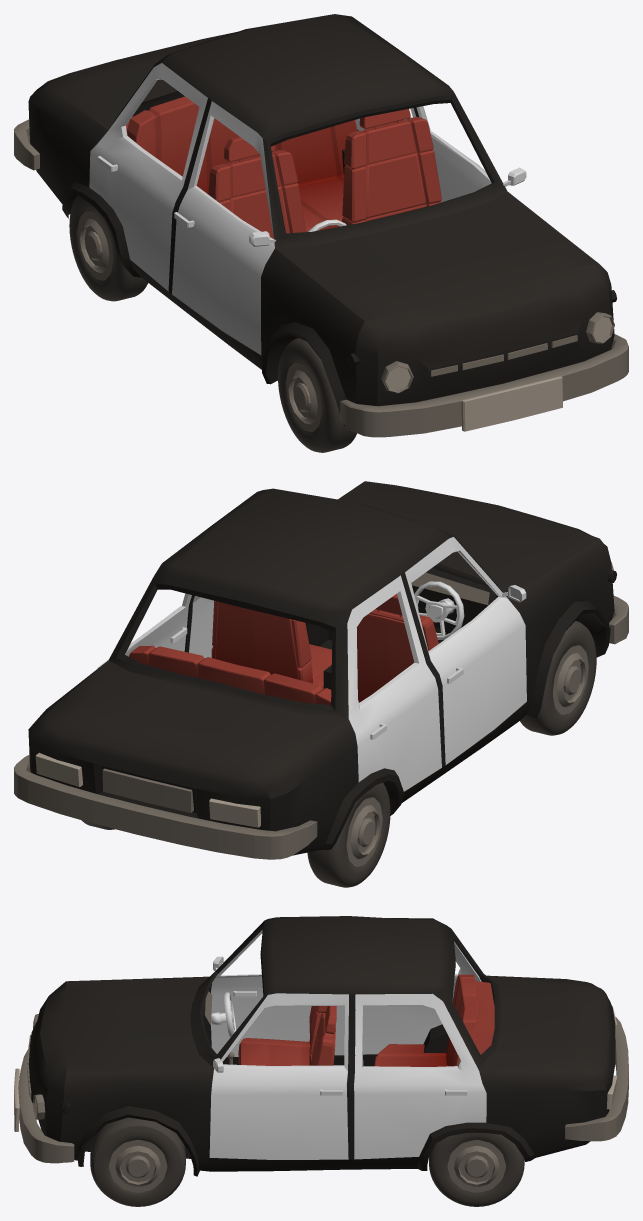
File: car.fbx
3 views of the same model, one above another, from view 1: azimuth 30°, elevation 25°; view 2: azimuth 150°, elevation 25°; view 3: azimuth 270°, elevation 25° (orthographic). The views are drawn at different scales.
Visible parts, largest first — view 1: CAR.001, Doors, Backseat, front seat 2, Frontseat, Wheel.004, Wheel.003; view 2: CAR.001, Doors, front seat 2, Wheel.003, Wheel.004, Frontseat, Backseat, Car inside, Steering wheel; view 3: CAR.001, Doors, Wheel.001, Wheel.002, Backseat, Frontseat, Car inside, front seat 2, Steering wheel.
Boxes of the visible parts, x1=… form: CAR.001: x1=14, y1=14, x2=628, y2=437; Doors: x1=89, y1=63, x2=526, y2=355; Backseat: x1=126, y1=96, x2=357, y2=231; front seat 2: x1=342, y1=109, x2=441, y2=225; Frontseat: x1=208, y1=136, x2=306, y2=238; Wheel.004: x1=278, y1=338, x2=356, y2=452; Wheel.003: x1=69, y1=196, x2=147, y2=301; CAR.001: x1=14, y1=481, x2=628, y2=859; Doors: x1=97, y1=537, x2=526, y2=791; front seat 2: x1=211, y1=600, x2=331, y2=688; Wheel.003: x1=307, y1=782, x2=390, y2=887; Wheel.004: x1=520, y1=621, x2=596, y2=735; Frontseat: x1=356, y1=593, x2=438, y2=702; Backseat: x1=129, y1=645, x2=331, y2=704; Car inside: x1=184, y1=566, x2=519, y2=752; Steering wheel: x1=414, y1=581, x2=464, y2=639; CAR.001: x1=14, y1=916, x2=628, y2=1176; Doors: x1=209, y1=930, x2=486, y2=1159; Wheel.001: x1=90, y1=1117, x2=185, y2=1206; Wheel.002: x1=429, y1=1133, x2=524, y2=1206; Backseat: x1=374, y1=974, x2=494, y2=1066; Frontseat: x1=238, y1=1006, x2=327, y2=1065; Car inside: x1=202, y1=936, x2=494, y2=1159; front seat 2: x1=310, y1=1006, x2=336, y2=1065; Steering wheel: x1=211, y1=992, x2=236, y2=1037.
Size of the model in its own units: 2.63 by 2.28 by 6.06.
